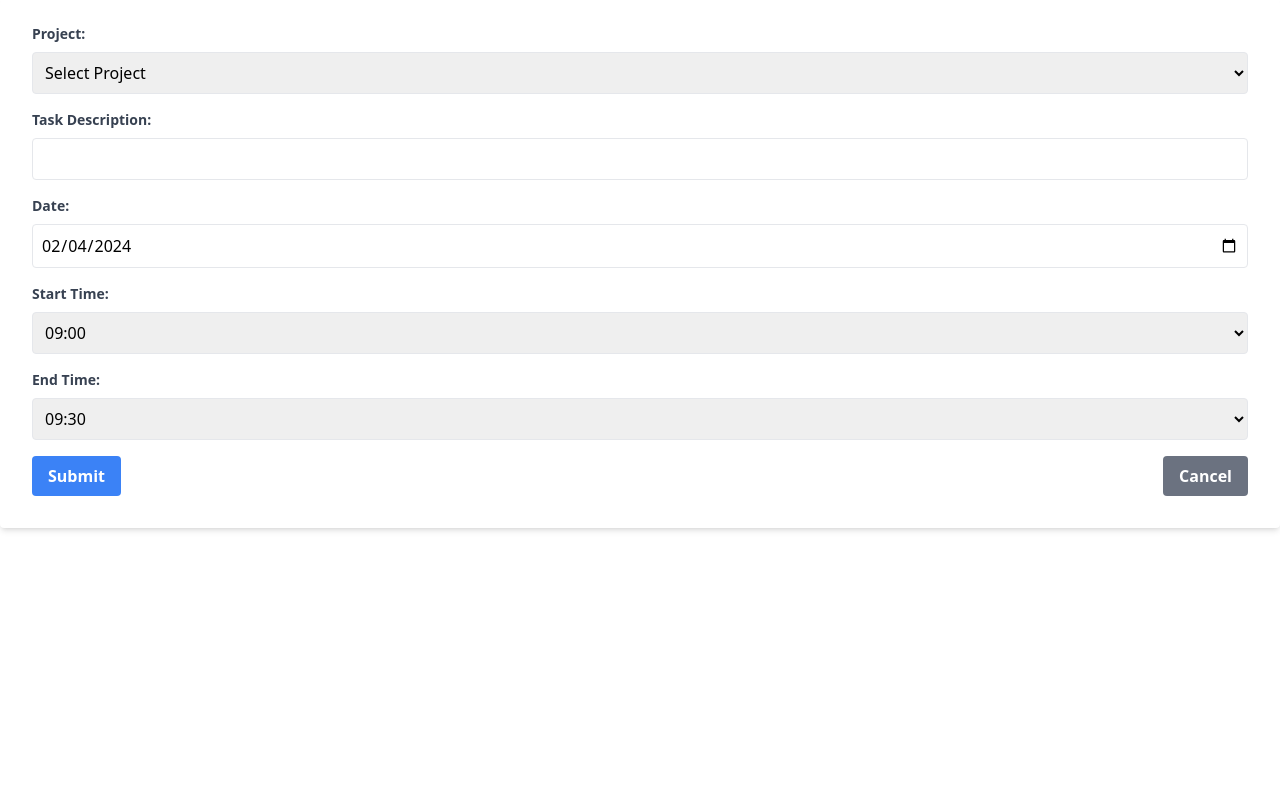
TimeRegistrationForm › displays error for invalid time range
Step 1. Select "1" in the dropdown labelled "Project:" → x=640, y=73, box [32,52,1248,94]
Step 2. Type "Test task" into the field labelled "Task Description:" → x=640, y=159, box [32,138,1248,180]
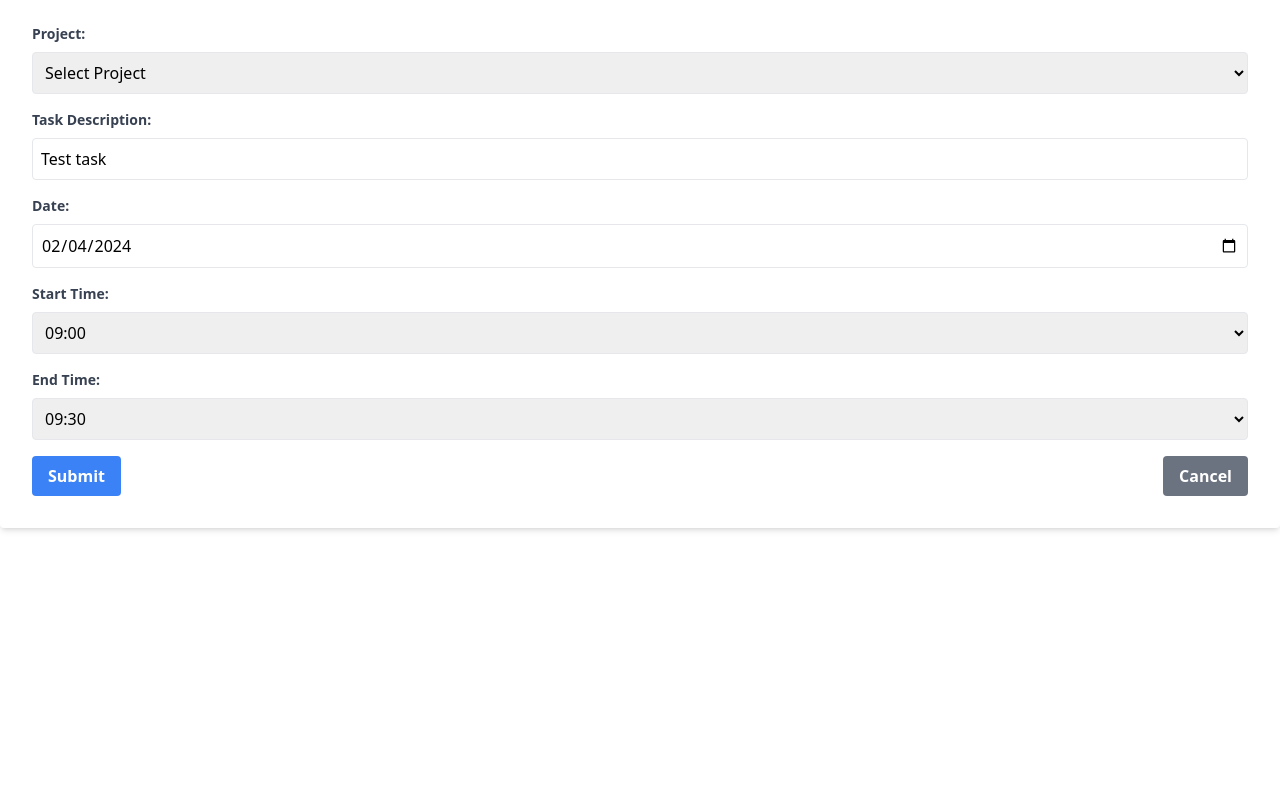
Step 3. Type "2022-01-01" into the date field labelled "Date:" → x=640, y=246, box [32,224,1248,268]
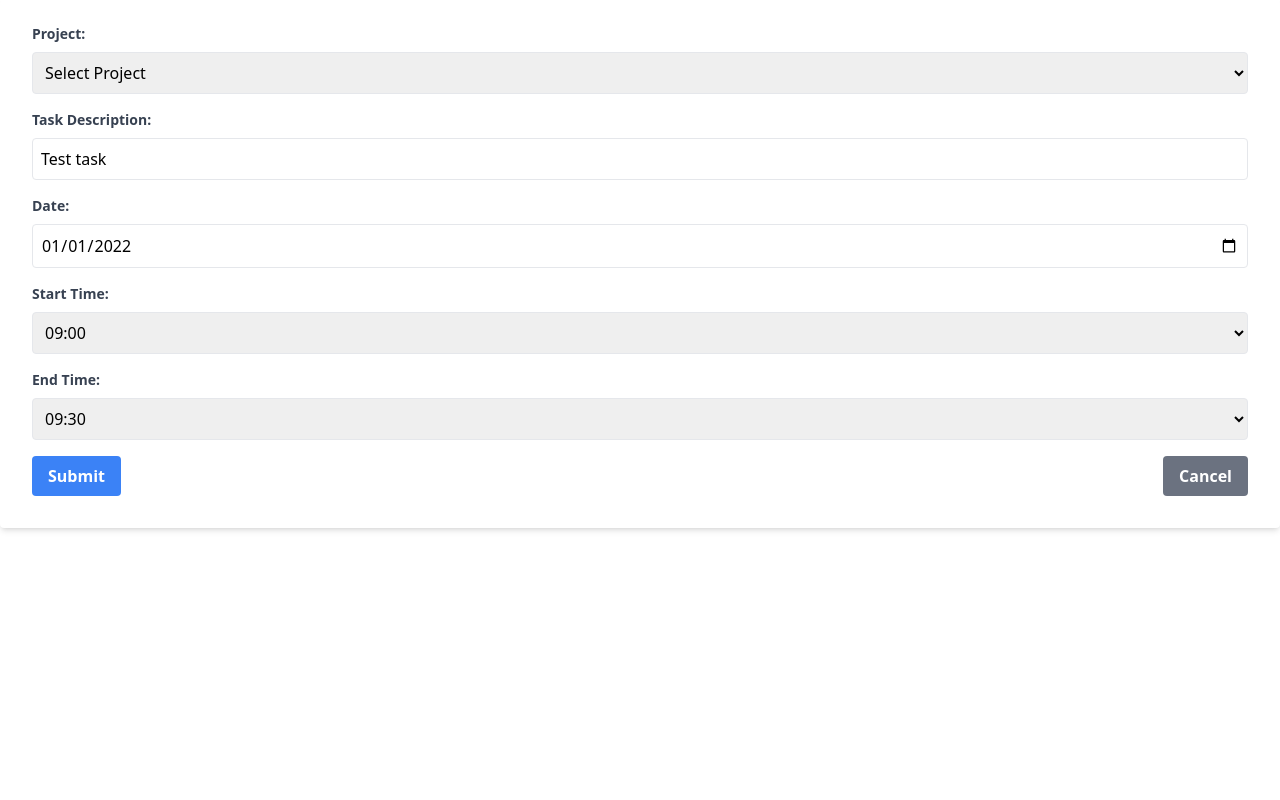
Step 4. Select "12:00" in the dropdown labelled "Start Time:" → x=640, y=333, box [32,312,1248,354]
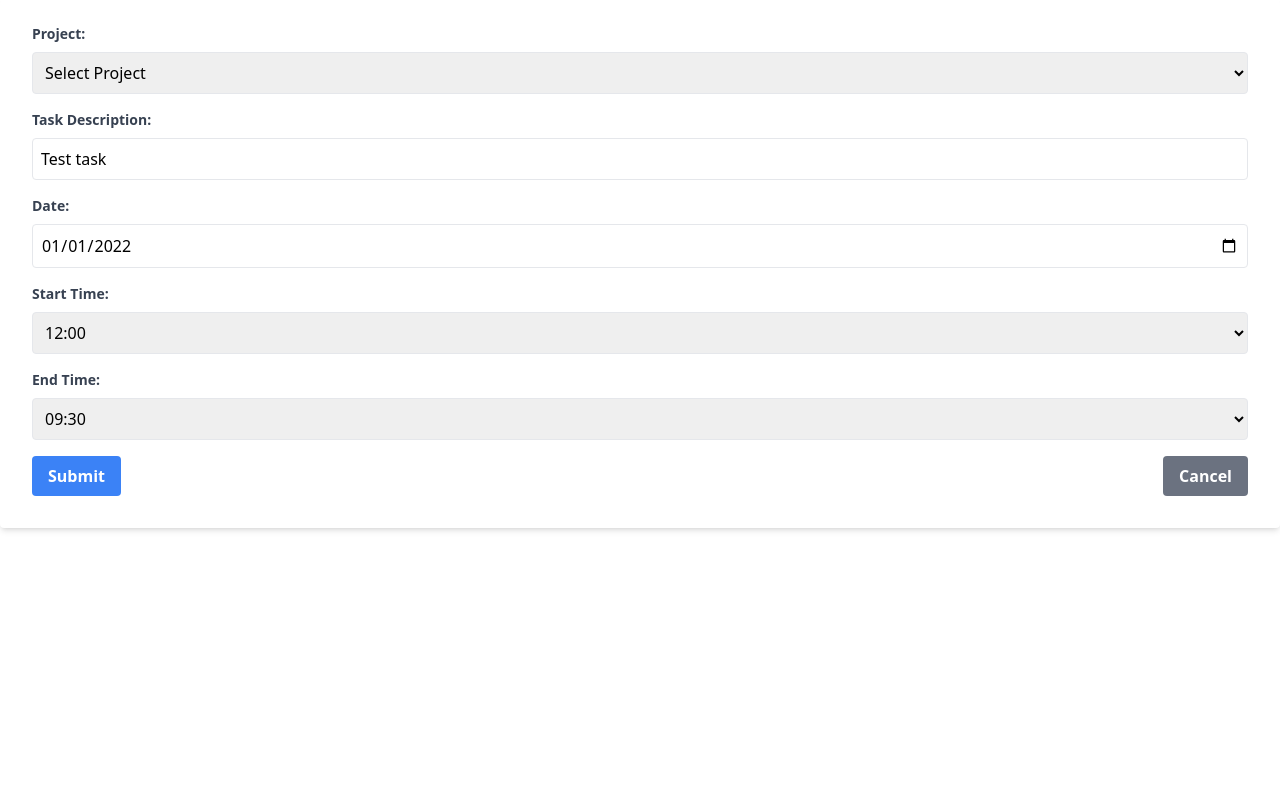
Step 5. Select "11:30" in the dropdown labelled "End Time:" → x=640, y=419, box [32,398,1248,440]
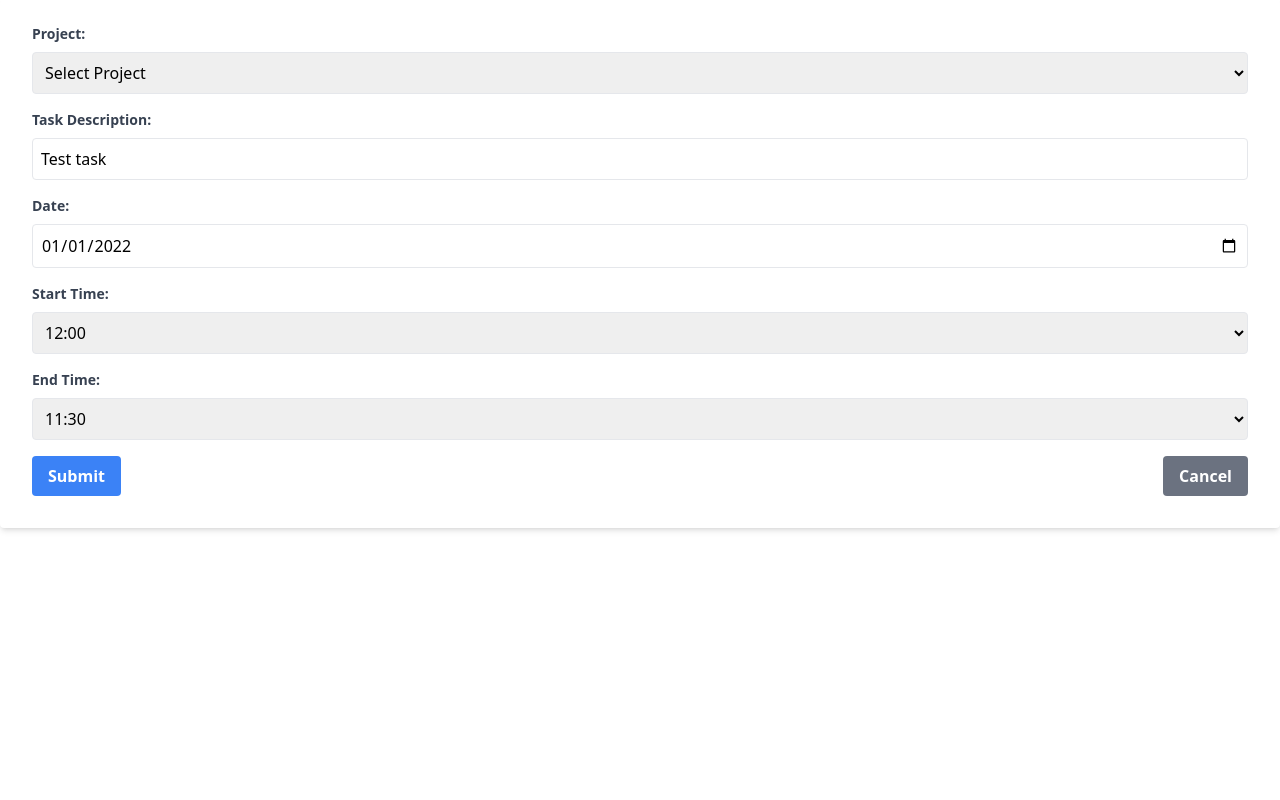
Step 6. Submit the form from the button with test id "submit-button", box [32,456,121,496]
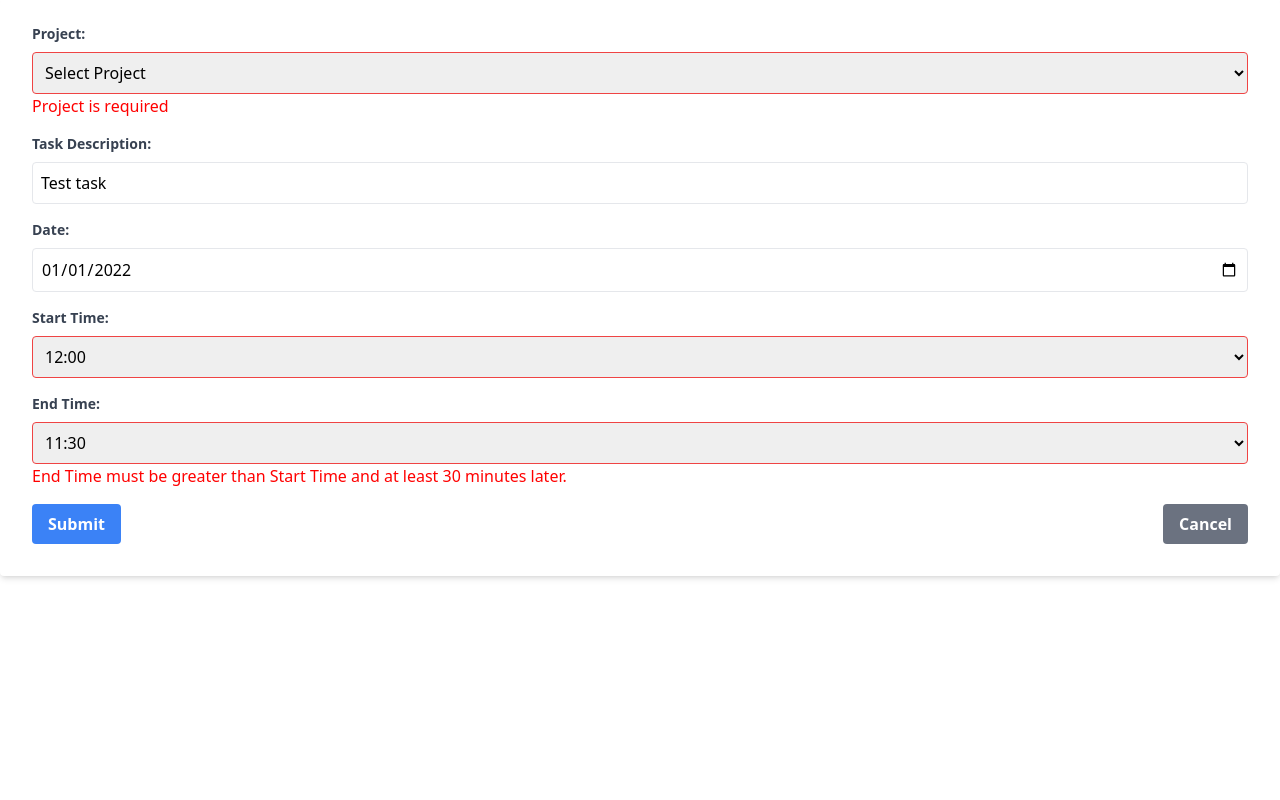
Now the text "End Time must be greater than Start Time and at least 30 minutes later." is shown, box [32,465,567,487]
